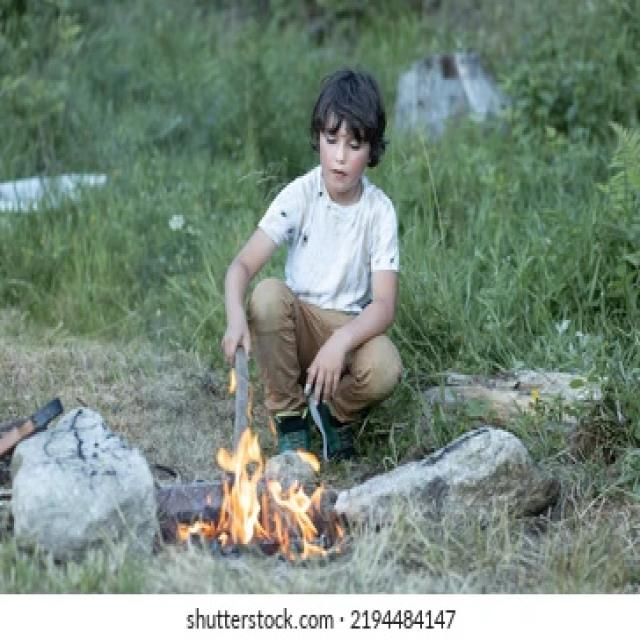fire: (261, 471, 345, 565), (217, 428, 260, 553), (264, 415, 320, 471)
